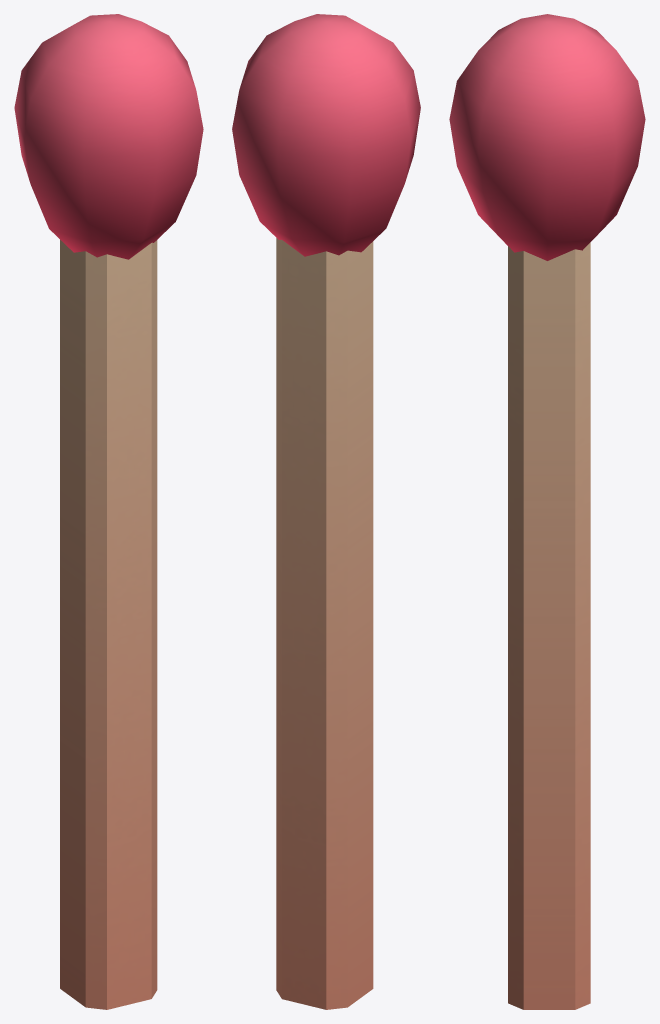
Rendered from match.fbx.
3 renders of one model, left to right at view 1: azimuth 30°, elevation 25°; view 2: azimuth 150°, elevation 25°; view 3: azimuth 270°, elevation 25°, orthographic.
Parts seen in each view (by area): view 1: Match; view 2: Match; view 3: Match.
Part boxes in pixels (x1,y1,x2,y2): Match: (14,14,203,1009); Match: (232,14,420,1009); Match: (449,14,645,1009).
Size of the model in its own units: 192 by 1048 by 192.
